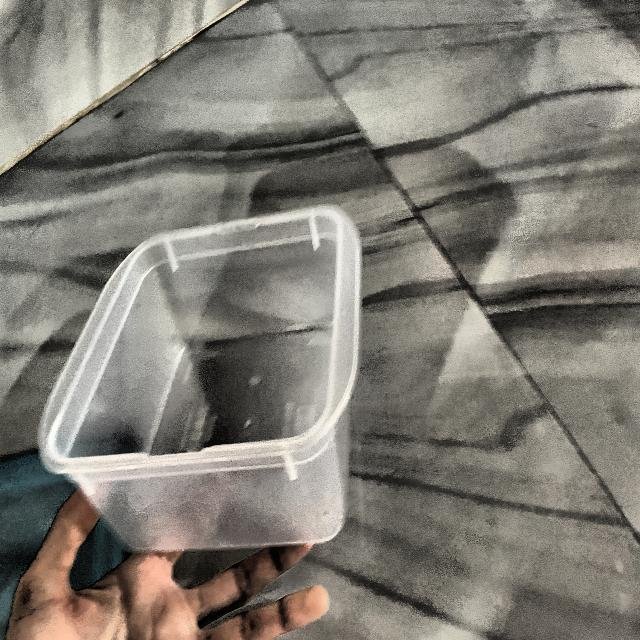plastic container: (76, 212, 374, 569)
